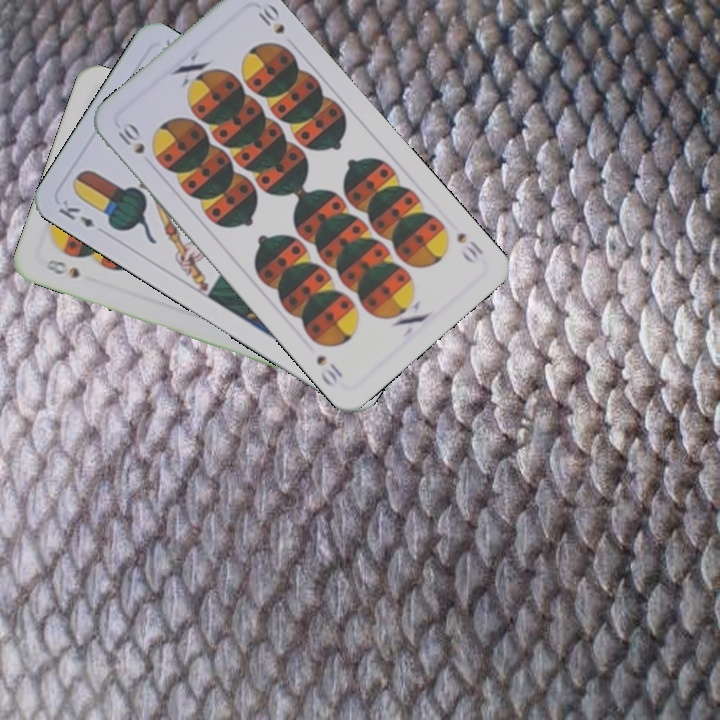EK: (54, 195, 97, 230)
S10: (452, 228, 487, 266), (113, 121, 148, 157)
S8: (41, 254, 83, 281)
